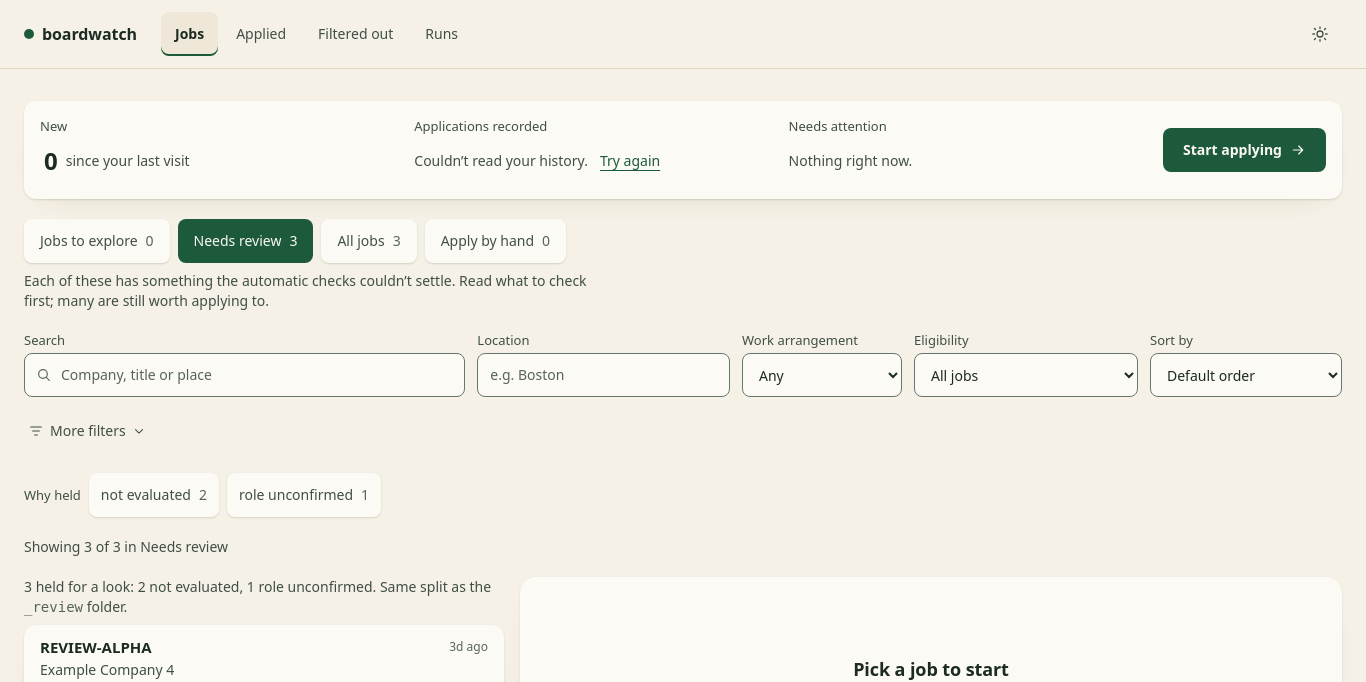
it: the status readout › narrows with the text filter
This screenshot has width=1366, height=682.
expect the text "Showing 3 of 3 in Needs review" is shown: met, box [24,537,228,556]
Type "ALPHA" into the search field labelled "Search".
click(245, 375); type("ALPHA")  # box [24,353,465,397]
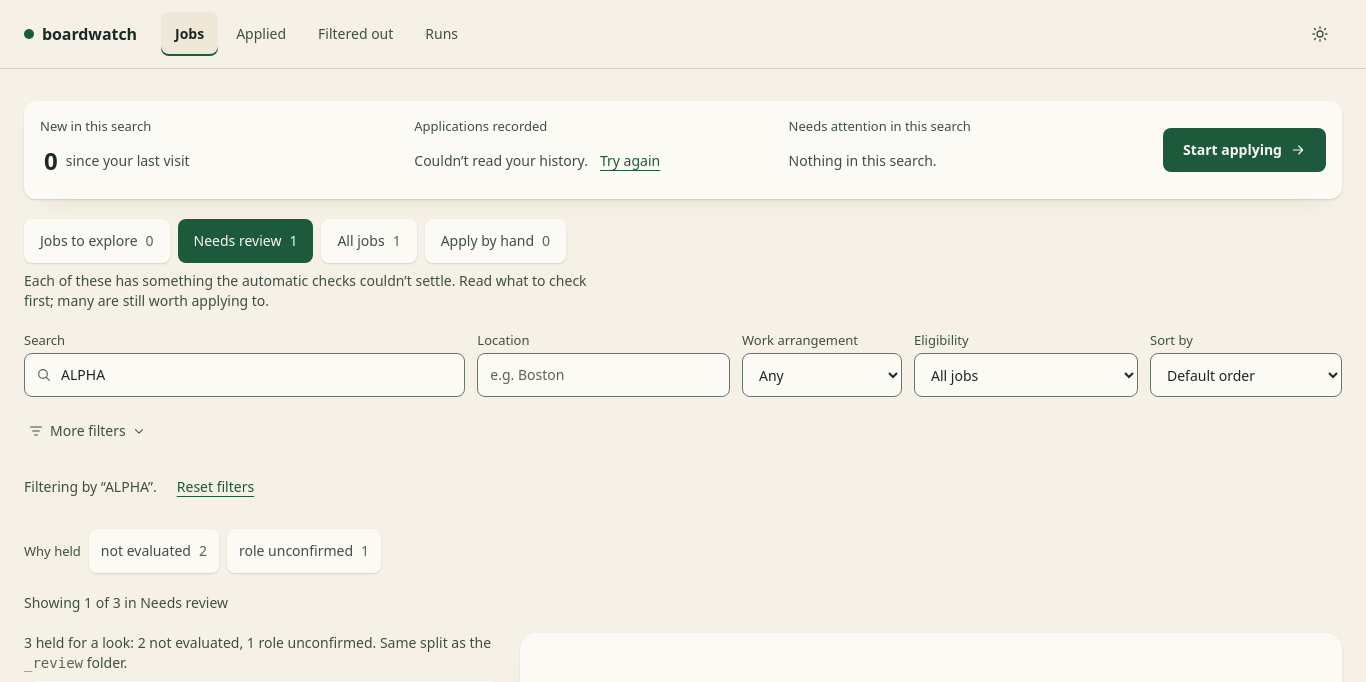
expect the text "Showing 1 of 3 in Needs review" is shown: met, box [24,593,228,612]
